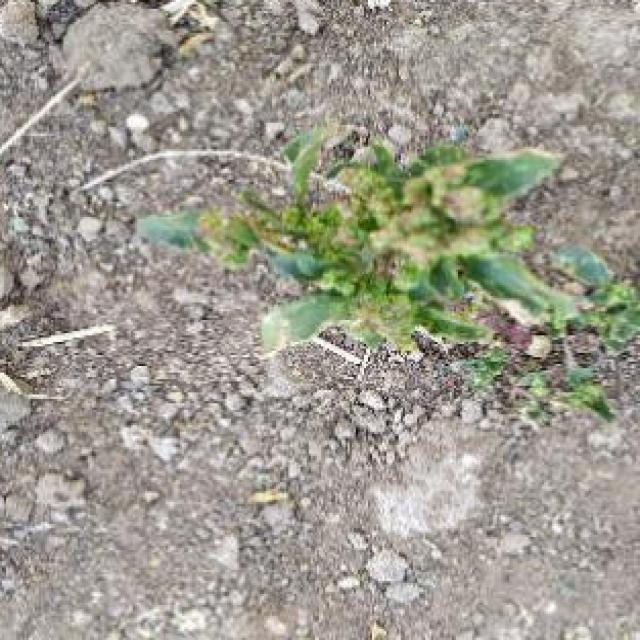weed: (196, 20, 640, 456)
